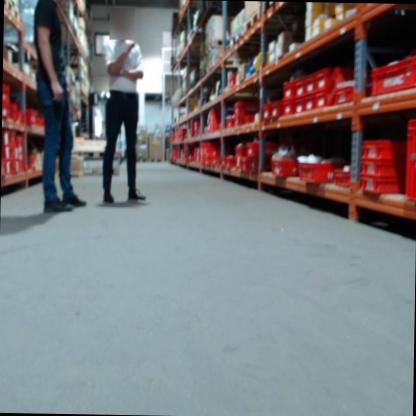pallet: (244, 7, 261, 32), (204, 37, 229, 53), (72, 150, 119, 158), (5, 0, 20, 22), (84, 168, 120, 175), (262, 1, 278, 14)
small_load_carrier: (367, 53, 416, 93), (324, 66, 360, 104), (357, 133, 405, 160), (298, 156, 341, 185), (402, 118, 416, 200), (357, 174, 403, 198), (358, 159, 404, 175), (270, 156, 302, 178), (335, 89, 357, 111), (332, 165, 352, 189), (206, 108, 222, 136), (246, 139, 277, 153), (238, 157, 263, 174), (302, 70, 316, 95), (15, 137, 24, 175), (312, 65, 325, 91), (231, 96, 245, 115), (281, 79, 294, 99), (291, 77, 304, 96), (223, 116, 236, 135), (266, 102, 281, 118), (303, 95, 315, 115), (279, 99, 293, 116), (240, 111, 253, 129), (26, 104, 39, 122), (234, 145, 246, 164), (3, 103, 13, 124), (315, 92, 328, 108), (292, 99, 304, 116), (2, 146, 13, 161), (9, 144, 19, 160), (3, 84, 11, 104), (211, 148, 224, 160), (9, 161, 20, 175), (24, 158, 34, 173), (1, 131, 10, 147), (7, 131, 16, 147), (261, 103, 268, 123), (16, 112, 24, 127), (231, 115, 240, 127), (225, 157, 234, 168), (211, 159, 221, 168), (219, 157, 227, 168), (1, 162, 6, 177), (217, 119, 223, 130), (7, 161, 11, 173)
